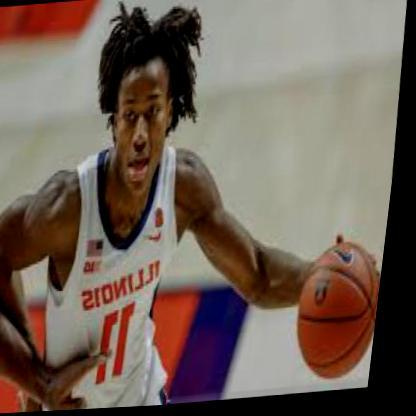basketball: (295, 245, 392, 385)
